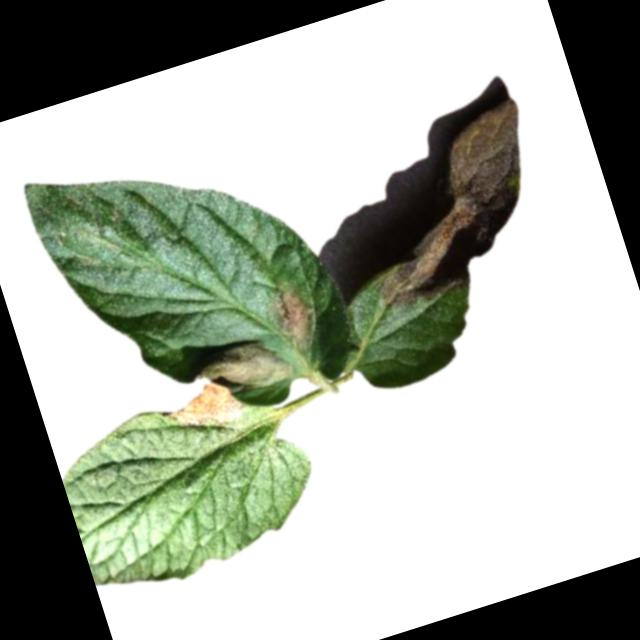Late_blight: (333, 98, 566, 314), (186, 325, 296, 406), (164, 371, 254, 440), (264, 282, 326, 358)
